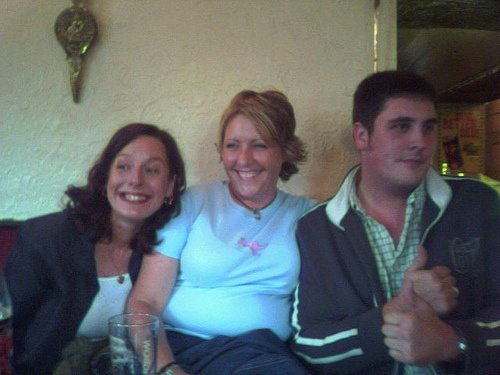head: (350, 70, 443, 189), (215, 88, 305, 205), (100, 117, 179, 225)
person: (272, 67, 499, 367), (129, 87, 315, 372), (1, 120, 185, 375)
